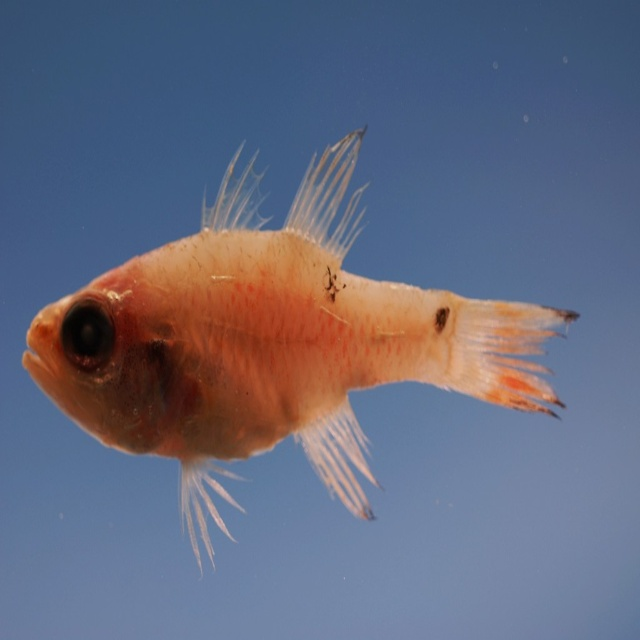Goldfish: (43, 124, 582, 569)
